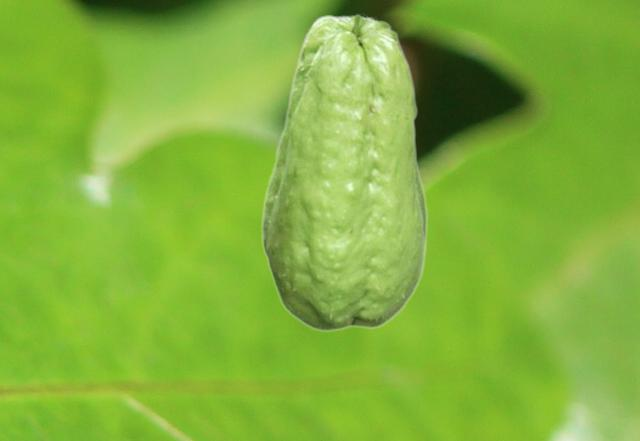sayote: (260, 13, 428, 332)
